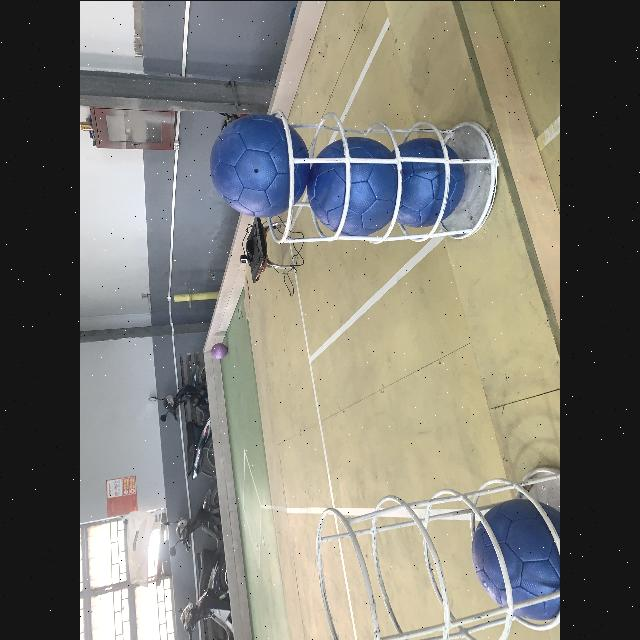B: (470, 498, 560, 618), (210, 114, 310, 216), (306, 138, 396, 235), (392, 133, 463, 224)
